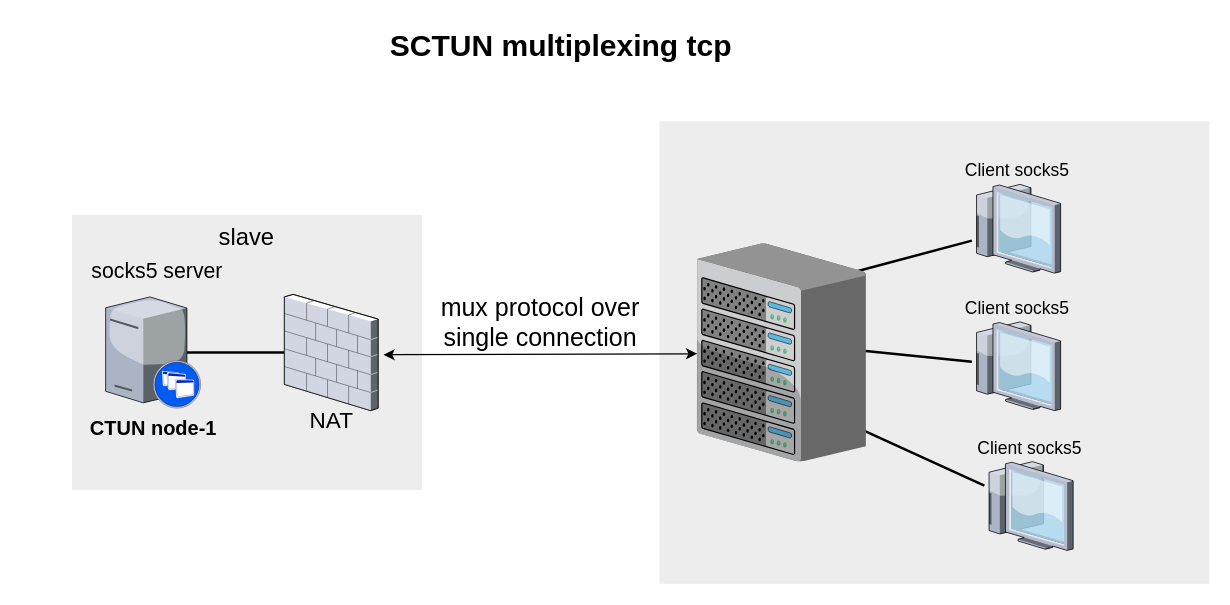
Image size: 1230x605. Some labels were removed from this diagram. The box of each missing label's shape, as (x1, y1, x2, y2) in pixels:
master: (659, 121, 1209, 583)
STUN: (696, 243, 865, 461)
